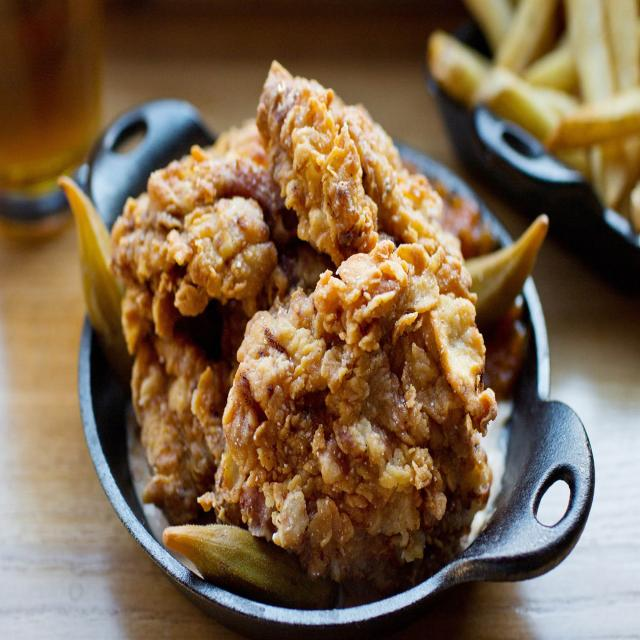Frango: (102, 59, 506, 585)
